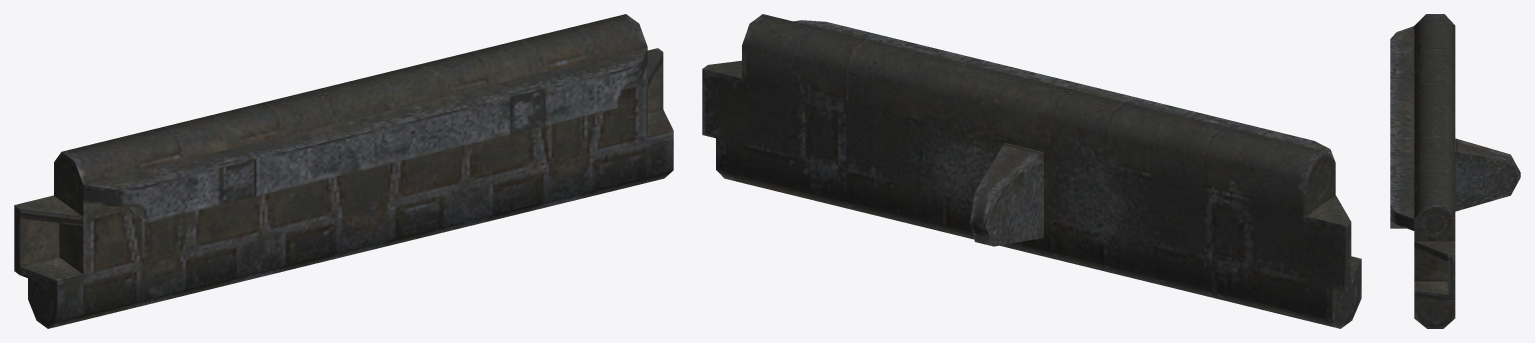
3 views of the same model, side by side, from view 1: azimuth 30°, elevation 25°; view 2: azimuth 150°, elevation 25°; view 3: azimuth 270°, elevation 25° (orthographic). The views are drawn at different scales.
Visible parts, largest first — view 1: set_0_group_0; view 2: set_0_group_0; view 3: set_0_group_0.
Part boxes in pixels (bbox=[...]): set_0_group_0: bbox=[14, 14, 673, 328]; set_0_group_0: bbox=[702, 14, 1361, 328]; set_0_group_0: bbox=[1390, 14, 1520, 328].
Size of the model in its own units: 0.7544 by 0.1813 by 0.189.
Materials: 1 (1 with a texture image).
